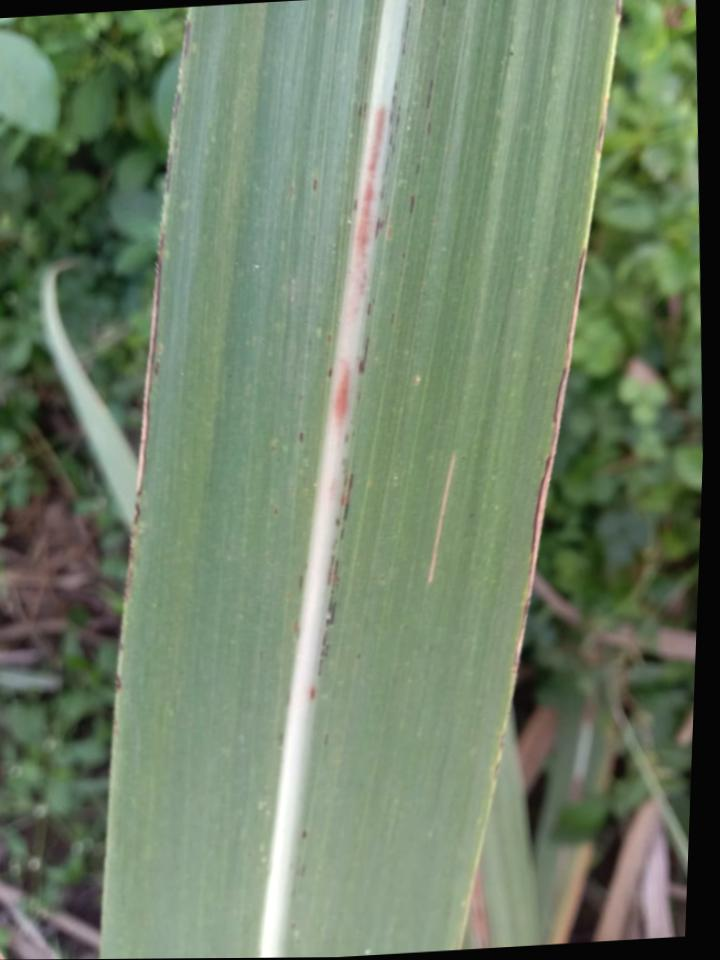RedRot: (342, 102, 388, 323), (331, 351, 354, 424)
Rust: (372, 0, 451, 241), (308, 426, 365, 680), (278, 824, 317, 952), (353, 295, 399, 401)
